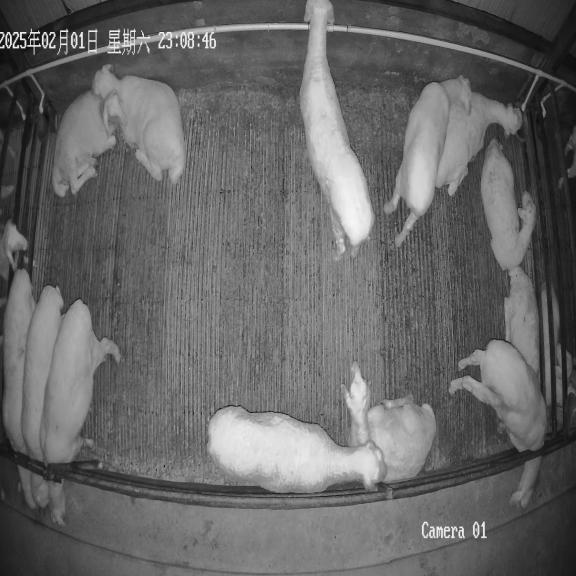drinking: (436, 91, 522, 196)
eating: (40, 299, 121, 525), (449, 339, 547, 508), (21, 285, 63, 508), (2, 270, 37, 509)
lying: (91, 64, 185, 184), (342, 362, 436, 482), (52, 91, 125, 197), (480, 139, 536, 270), (504, 267, 539, 373)
stand: (300, 0, 374, 260), (208, 406, 387, 493), (384, 76, 473, 246)
